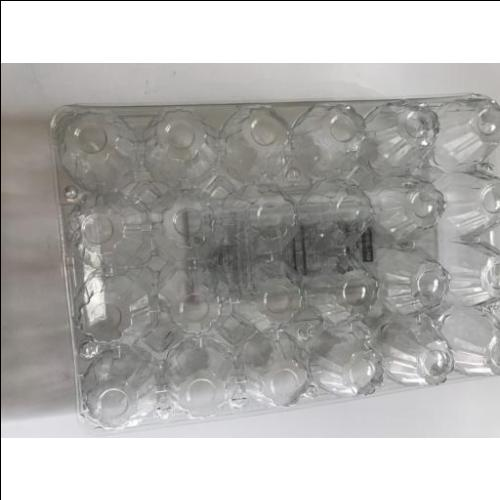plastic: (52, 104, 500, 412)
